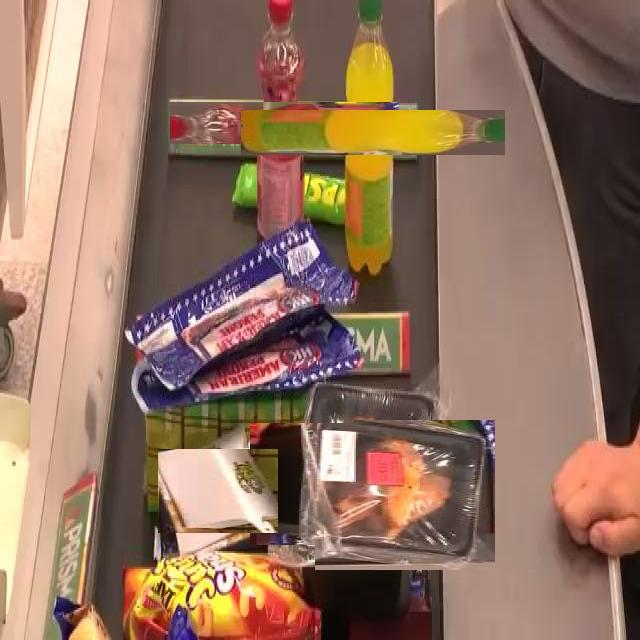beverage: (295, 55, 450, 210), (216, 54, 352, 191)
food-box: (130, 235, 354, 423), (273, 396, 471, 594)
utility-box: (136, 545, 315, 637), (167, 440, 269, 543)
